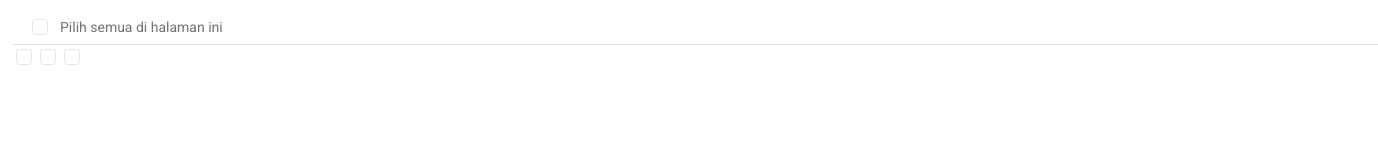
Test: bulk tagging on the member table (task 5.5) › selects and clears the whole page from the select-all row
This screenshot has width=1378, height=160.
Click the checkbox named "Pilih semua". click: (40, 26)
box: [32,18,48,34]
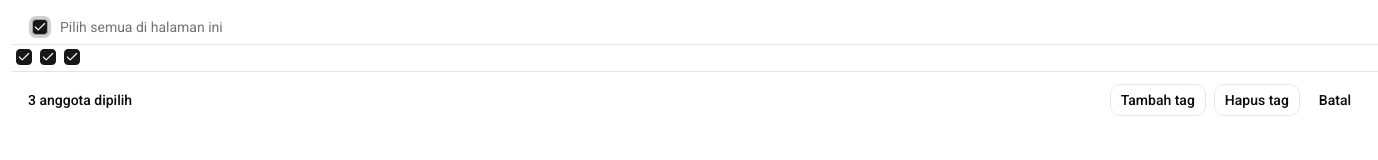
Click the checkbox named "Pilih semua". click: (40, 26)
box: [32,18,48,34]
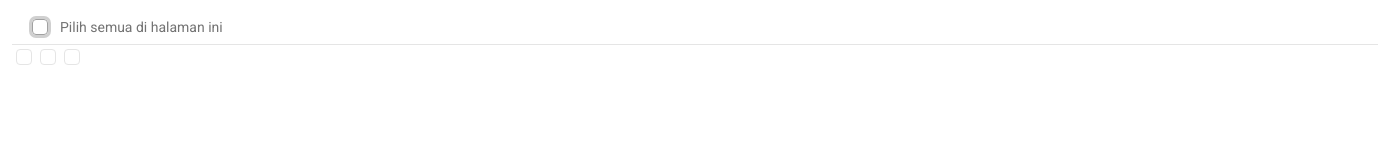
Check: the button "Tambah tag" is gone
